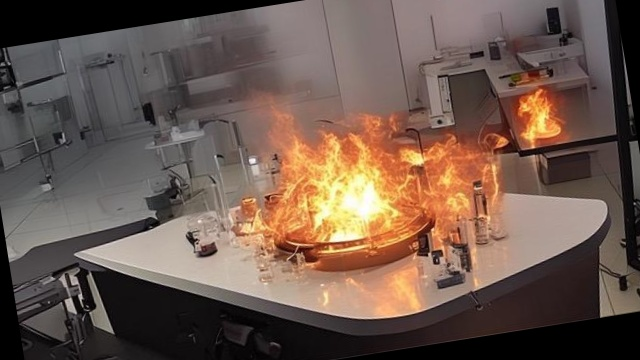fire: (217, 74, 588, 300)
